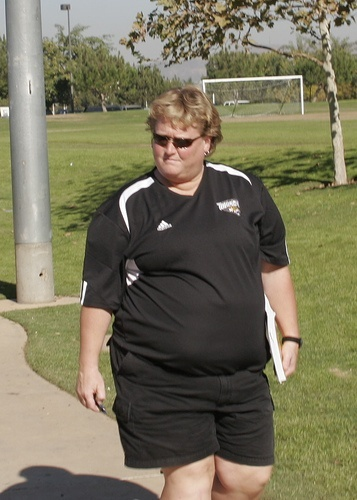head: (149, 90, 215, 182)
person: (69, 91, 297, 496)
